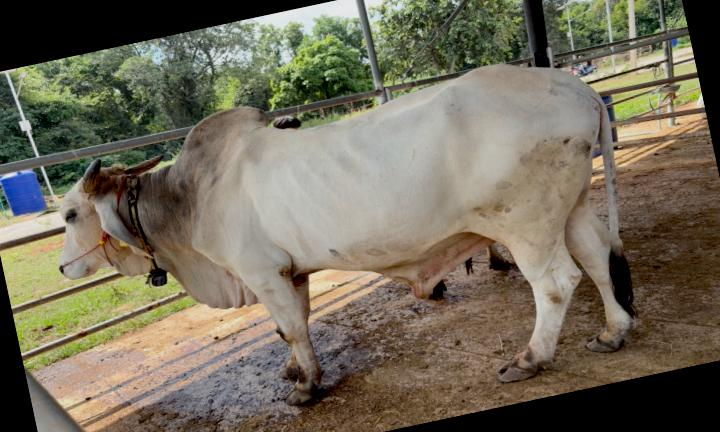Brahman: (60, 64, 635, 405)
